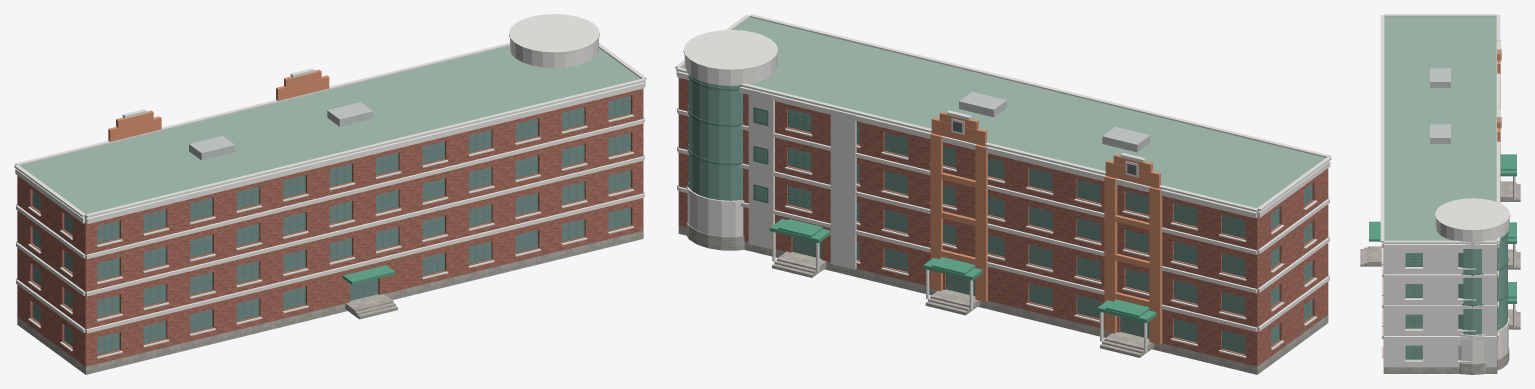
The picture shows the model from 3 angles, left to right: view 1: azimuth 30°, elevation 25°; view 2: azimuth 150°, elevation 25°; view 3: azimuth 270°, elevation 25°; orthographic projection. The views are drawn at different scales.
Parts seen in each view (by area): view 1: guyong__guyongbrick, guyong__roof, guyong__sideglass, guyong__band, guyong__cap, guyong__frame, guyong__stone, guyong__sill, guyong__greenframe, guyong__terracotta, guyong__steel, guyong__panel (+2 smaller); view 2: guyong__guyongbrick, guyong__roof, guyong__band, guyong__glass, guyong__terracotta, guyong__panel, guyong__cap, guyong__tealglass, guyong__stone, guyong__frame, guyong__greenframe, guyong__sill (+6 smaller); view 3: guyong__roof, guyong__panel, guyong__cap, guyong__tealglass, guyong__band, guyong__stone, guyong__greencanopy, guyong__steel, guyong__sill, guyong__frame, guyong__greenframe, guyong__terracotta (+7 smaller).
Part boxes in pixels (<box>): guyong__guyongbrick: <box>17,88,643,366</box>; guyong__roof: <box>20,46,640,217</box>; guyong__sideglass: <box>33,96,629,353</box>; guyong__band: <box>15,82,645,333</box>; guyong__cap: <box>14,14,646,217</box>; guyong__frame: <box>32,95,630,354</box>; guyong__stone: <box>17,231,643,374</box>; guyong__sill: <box>28,114,633,358</box>; guyong__greenframe: <box>33,100,629,348</box>; guyong__terracotta: <box>108,69,329,141</box>; guyong__steel: <box>189,102,373,160</box>; guyong__panel: <box>510,39,643,230</box>; guyong__guyongbrick: <box>678,78,1328,366</box>; guyong__roof: <box>681,17,1325,211</box>; guyong__band: <box>676,71,1330,352</box>; guyong__glass: <box>793,132,1245,353</box>; guyong__terracotta: <box>930,111,1162,344</box>; guyong__panel: <box>684,55,856,269</box>; guyong__cap: <box>675,14,1331,211</box>; guyong__tealglass: <box>688,73,859,258</box>; guyong__stone: <box>678,222,1328,374</box>; guyong__frame: <box>788,108,1312,353</box>; guyong__greenframe: <box>687,76,1311,351</box>; guyong__sill: <box>688,105,1317,357</box>; guyong__roof: <box>1383,16,1497,243</box>; guyong__panel: <box>1384,219,1509,367</box>; guyong__cap: <box>1380,14,1510,243</box>; guyong__tealglass: <box>1406,233,1507,358</box>; guyong__band: <box>1381,46,1515,339</box>; guyong__stone: <box>1383,347,1509,374</box>; guyong__greencanopy: <box>1369,154,1516,303</box>; guyong__steel: <box>1430,68,1450,143</box>; guyong__sill: <box>1381,248,1499,362</box>; guyong__frame: <box>1405,253,1422,359</box>; guyong__greenframe: <box>1406,231,1508,354</box>; guyong__terracotta: <box>1497,40,1500,203</box>.
Size of the model in its own units: 57.22 by 17.67 by 16.94.
17 materials, 2 textured.
